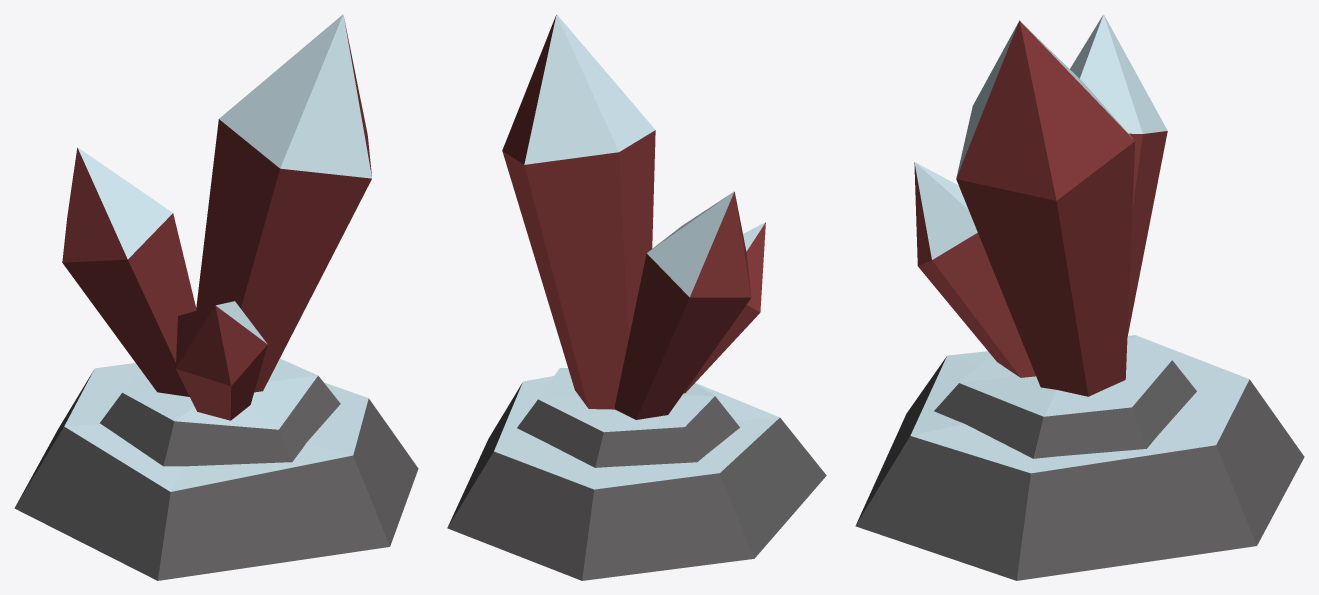
File: SM_Env_Dungeon_Crystal_01_Snow.fbx
3 renders of one model, left to right at view 1: azimuth 30°, elevation 25°; view 2: azimuth 150°, elevation 25°; view 3: azimuth 270°, elevation 25°, orthographic. The views are drawn at different scales.
Parts seen in each view (by area): view 1: SM_Env_Dungeon_Crystal_01_Snow; view 2: SM_Env_Dungeon_Crystal_01_Snow; view 3: SM_Env_Dungeon_Crystal_01_Snow.
Boxes of the visible parts, <box> form: SM_Env_Dungeon_Crystal_01_Snow: <box>14,14,418,580</box>; SM_Env_Dungeon_Crystal_01_Snow: <box>447,14,826,580</box>; SM_Env_Dungeon_Crystal_01_Snow: <box>855,14,1304,580</box>.
Bounding box in the file's own units: 56.24 × 80.26 × 57.64.
Materials: 1 (1 with a texture image).
